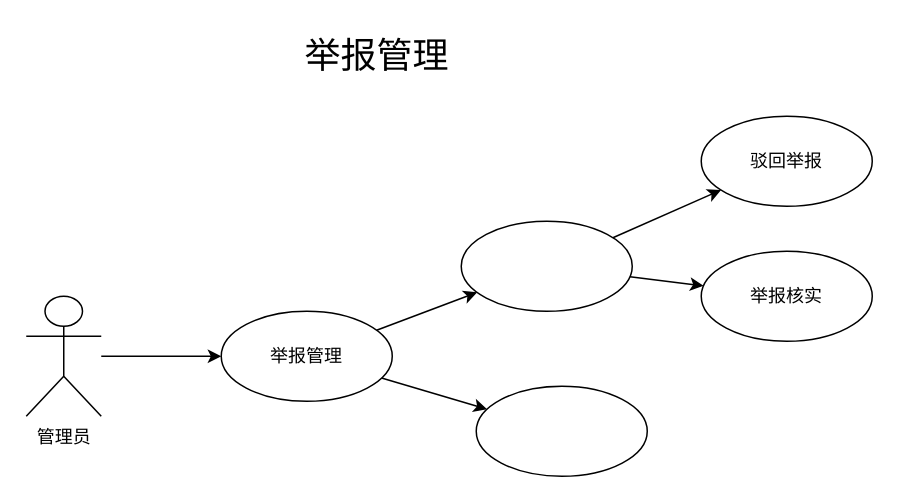
Image size: 899x503. Some labels were removed from this diagram. The shapes that lost their labels are listed below. From the top down, each one's box as (x1, y1, x2, y2) in pixels, then its label:
(460, 220, 632, 311): 审核举报
(475, 385, 647, 476): 查找举报
